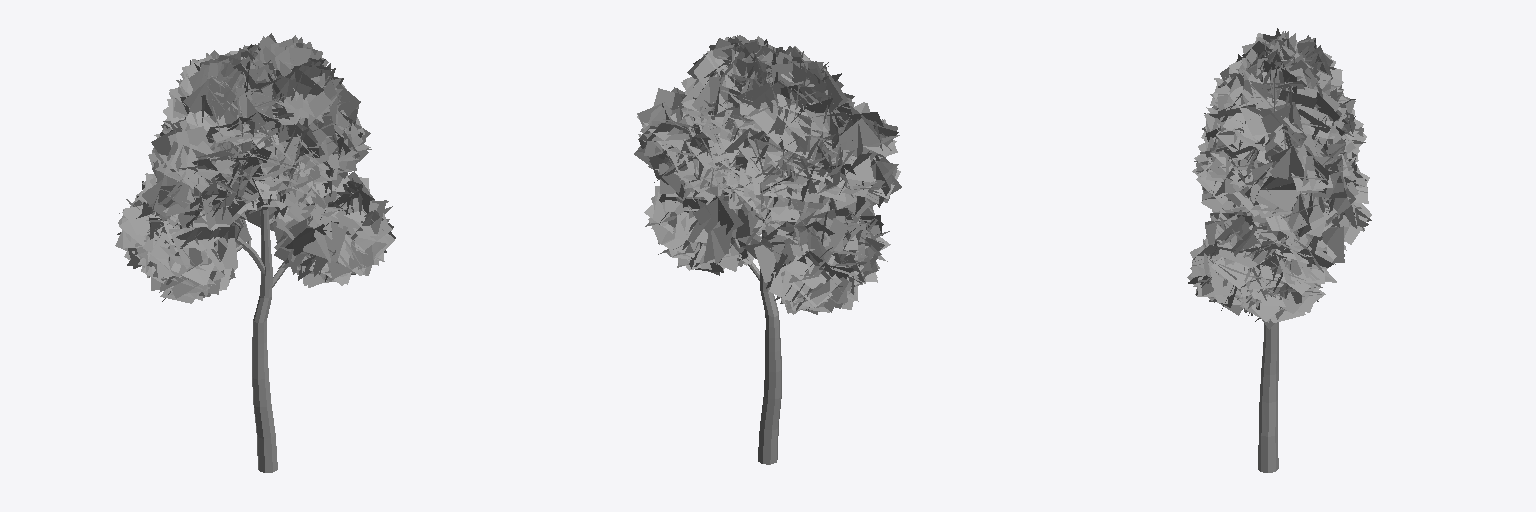
Rendered from NormalTree_1.obj.
3 views of the same model, side by side, from view 1: azimuth 30°, elevation 25°; view 2: azimuth 150°, elevation 25°; view 3: azimuth 270°, elevation 25° (orthographic).
Visible parts, largest first — view 1: NormalTree_1_Cylinder.001; view 2: NormalTree_1_Cylinder.001; view 3: NormalTree_1_Cylinder.001.
Part boxes in pixels (x1,y1,x2,y2): NormalTree_1_Cylinder.001: (115,33,395,472); NormalTree_1_Cylinder.001: (634,35,901,464); NormalTree_1_Cylinder.001: (1187,28,1371,472).
Size of the model in its own units: 4.05 by 6.87 by 2.74.